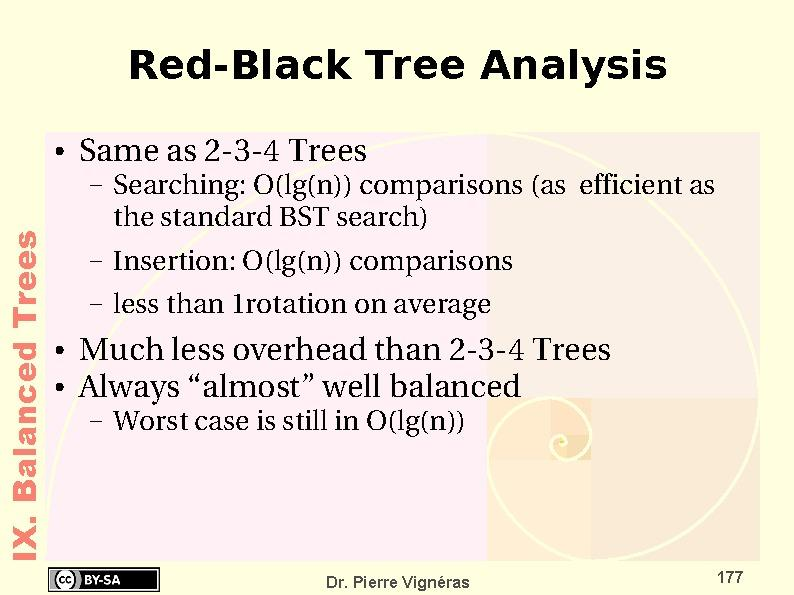paragraph: (46, 129, 770, 469)
title: (115, 33, 682, 98)
